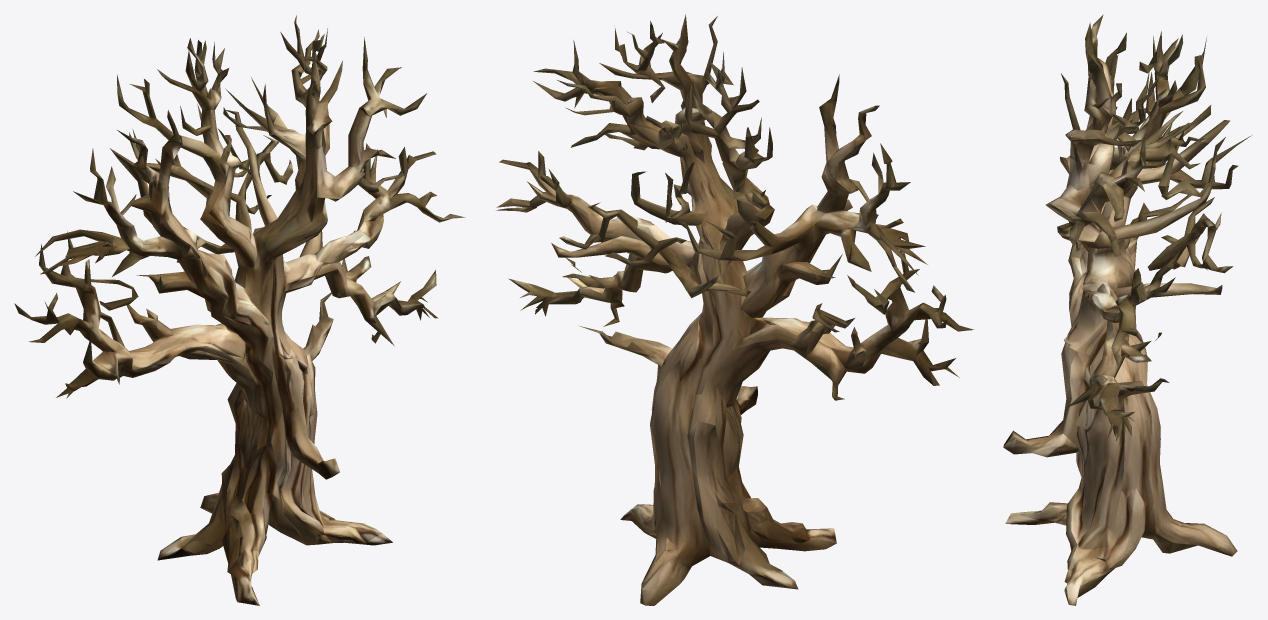
The model's file is dead_tree.glb.
3 views of the same model, side by side, from view 1: azimuth 30°, elevation 25°; view 2: azimuth 150°, elevation 25°; view 3: azimuth 270°, elevation 25° (orthographic). The views are drawn at different scales.
Parts seen in each view (by area): view 1: model; view 2: model; view 3: model.
Boxes of the visible parts, left/top/right/bottom form: model: left=14, top=15, right=465, bottom=605; model: left=496, top=14, right=973, bottom=605; model: left=1003, top=14, right=1251, bottom=605.
Size of the model in its own units: 1.74 by 1.88 by 0.8438.
Materials: 1 (1 with a texture image).
